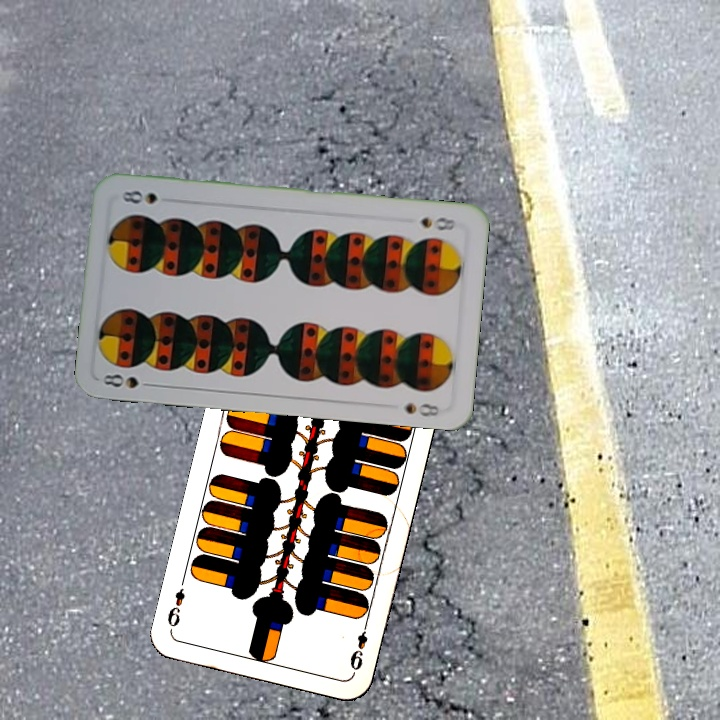E9: (346, 618, 371, 676)
S8: (99, 370, 158, 391), (416, 213, 458, 233)
